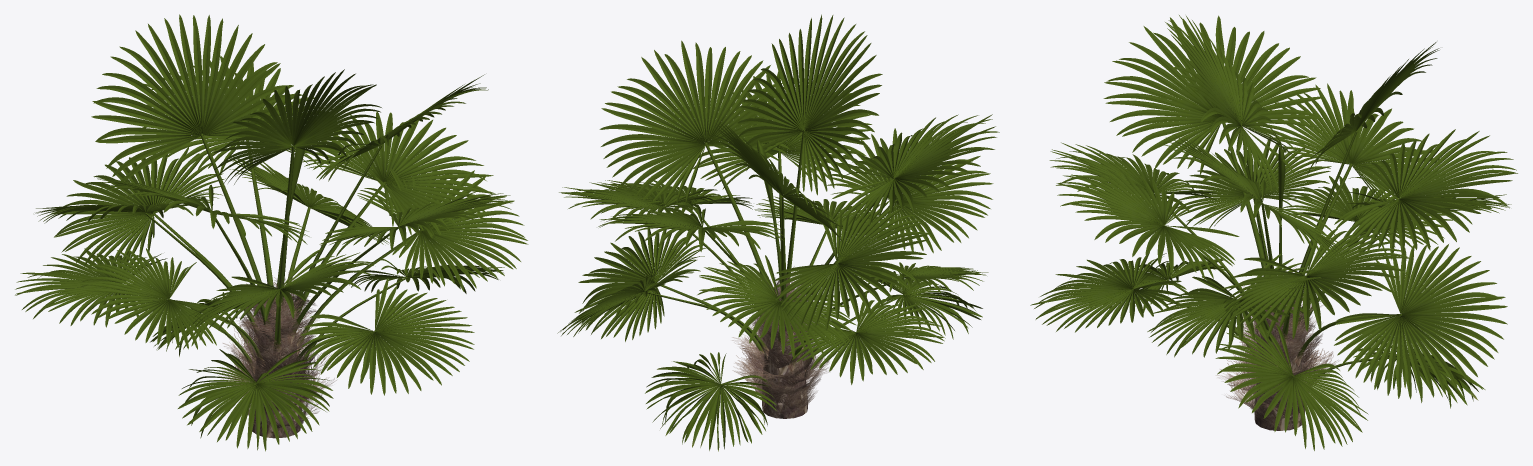
File: realistic_hd_windmill_palm_1625.glb
The picture shows the model from 3 angles, left to right: view 1: azimuth 30°, elevation 25°; view 2: azimuth 150°, elevation 25°; view 3: azimuth 270°, elevation 25°; orthographic projection. The views are drawn at different scales.
Visible parts, largest first — view 1: Trachycarpus_fortunei_HD_Trachy flat leaflet 01_0, Trachycarpus_fortunei_HD_Trachy flat leaflet 02_0, Trachycarpus_fortunei_HD_Trachy flat leaflet 03_0, Trachycarpus_fortunei_HD_Trachy leaf stalk 01_0, Trachycarpus_fortunei_HD_Trachy fur 1_0, Trachycarpus_fortunei_HD_Trachy fur 2_0, Trachycarpus_fortunei_HD_Trachy trunk_0; view 2: Trachycarpus_fortunei_HD_Trachy flat leaflet 02_0, Trachycarpus_fortunei_HD_Trachy flat leaflet 03_0, Trachycarpus_fortunei_HD_Trachy flat leaflet 01_0, Trachycarpus_fortunei_HD_Trachy leaf stalk 01_0, Trachycarpus_fortunei_HD_Trachy fur 1_0, Trachycarpus_fortunei_HD_Trachy trunk_0, Trachycarpus_fortunei_HD_Trachy fur 2_0; view 3: Trachycarpus_fortunei_HD_Trachy flat leaflet 01_0, Trachycarpus_fortunei_HD_Trachy flat leaflet 03_0, Trachycarpus_fortunei_HD_Trachy flat leaflet 02_0, Trachycarpus_fortunei_HD_Trachy leaf stalk 01_0, Trachycarpus_fortunei_HD_Trachy fur 1_0, Trachycarpus_fortunei_HD_Trachy fur 2_0, Trachycarpus_fortunei_HD_Trachy trunk_0.
Boxes of the visible parts, bbox=[...] form: Trachycarpus_fortunei_HD_Trachy flat leaflet 01_0: bbox=[15, 14, 524, 451]; Trachycarpus_fortunei_HD_Trachy flat leaflet 02_0: bbox=[15, 18, 514, 450]; Trachycarpus_fortunei_HD_Trachy flat leaflet 03_0: bbox=[16, 15, 528, 448]; Trachycarpus_fortunei_HD_Trachy leaf stalk 01_0: bbox=[144, 133, 422, 388]; Trachycarpus_fortunei_HD_Trachy fur 1_0: bbox=[220, 279, 336, 424]; Trachycarpus_fortunei_HD_Trachy fur 2_0: bbox=[218, 271, 331, 428]; Trachycarpus_fortunei_HD_Trachy trunk_0: bbox=[252, 302, 301, 438]; Trachycarpus_fortunei_HD_Trachy flat leaflet 02_0: bbox=[557, 14, 999, 434]; Trachycarpus_fortunei_HD_Trachy flat leaflet 03_0: bbox=[559, 24, 996, 450]; Trachycarpus_fortunei_HD_Trachy flat leaflet 01_0: bbox=[562, 15, 992, 451]; Trachycarpus_fortunei_HD_Trachy leaf stalk 01_0: bbox=[644, 129, 904, 394]; Trachycarpus_fortunei_HD_Trachy fur 1_0: bbox=[732, 266, 832, 410]; Trachycarpus_fortunei_HD_Trachy trunk_0: bbox=[762, 327, 807, 418]; Trachycarpus_fortunei_HD_Trachy fur 2_0: bbox=[741, 278, 821, 402]; Trachycarpus_fortunei_HD_Trachy flat leaflet 01_0: bbox=[1034, 15, 1515, 450]; Trachycarpus_fortunei_HD_Trachy flat leaflet 03_0: bbox=[1030, 15, 1513, 432]; Trachycarpus_fortunei_HD_Trachy flat leaflet 02_0: bbox=[1035, 24, 1517, 449]; Trachycarpus_fortunei_HD_Trachy leaf stalk 01_0: bbox=[1132, 123, 1401, 386]; Trachycarpus_fortunei_HD_Trachy fur 1_0: bbox=[1216, 266, 1338, 417]; Trachycarpus_fortunei_HD_Trachy fur 2_0: bbox=[1226, 266, 1322, 426]; Trachycarpus_fortunei_HD_Trachy trunk_0: bbox=[1254, 320, 1304, 430].
Size of the model in its own units: 1.46 by 1.28 by 1.44.
Materials: 7 (7 with a texture image).
